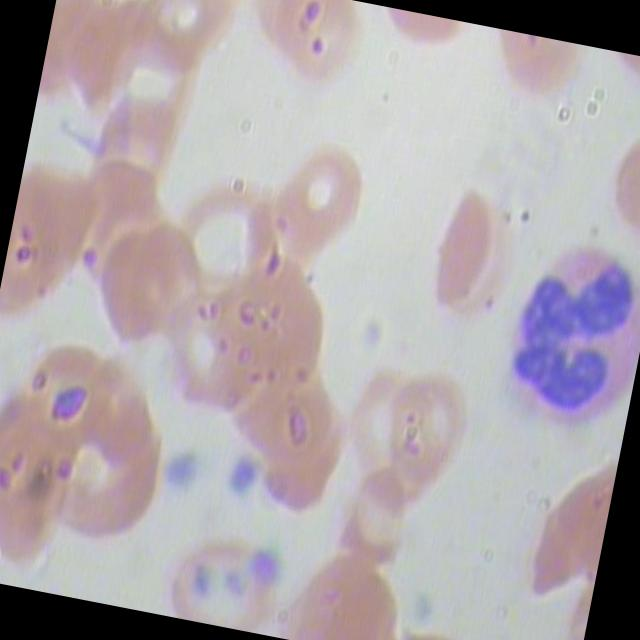Platelets: (215, 444, 268, 512), (157, 438, 210, 506), (243, 541, 296, 609)
RBC: (34, 382, 178, 566), (412, 168, 548, 348), (210, 255, 350, 412), (216, 321, 352, 481), (0, 381, 96, 587), (154, 508, 303, 638), (267, 130, 384, 288), (78, 209, 200, 360), (49, 139, 170, 290), (74, 86, 195, 237), (171, 162, 292, 312), (100, 14, 221, 164), (524, 434, 621, 614), (378, 366, 483, 520), (331, 352, 436, 506), (255, 0, 378, 109), (220, 0, 343, 102), (126, 0, 246, 102), (329, 458, 419, 584), (36, 0, 128, 121), (582, 126, 640, 275)
WBC: (482, 233, 640, 446)
